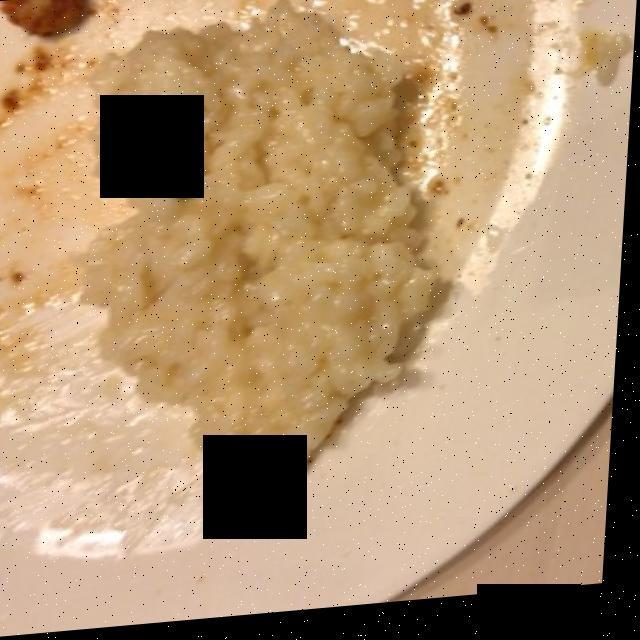risotto: (64, 27, 429, 499)
